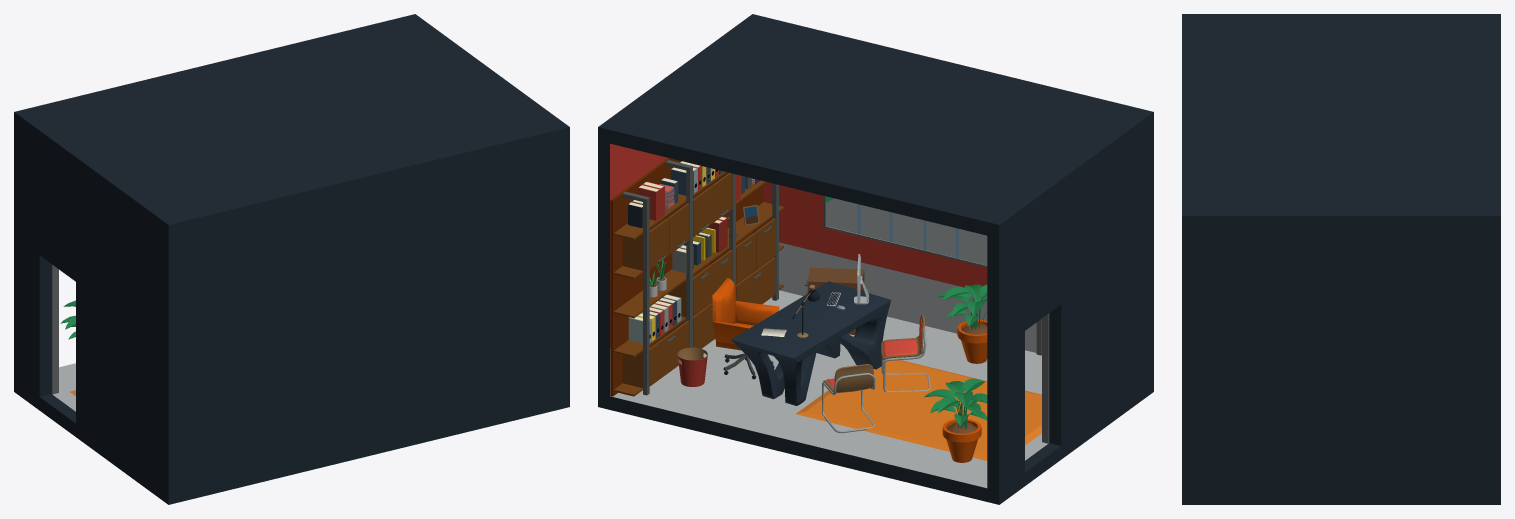
File: Room_director_002.fbx
3 renders of one model, left to right at view 1: azimuth 30°, elevation 25°; view 2: azimuth 150°, elevation 25°; view 3: azimuth 270°, elevation 25°, orthographic. The views are drawn at different scales.
Visible parts, largest first — view 1: Director_room.001; view 2: Director_room.001; view 3: Director_room.001.
Boxes of the visible parts, x1,y1,x2,y2 form: Director_room.001: (14, 14, 569, 504); Director_room.001: (598, 14, 1153, 504); Director_room.001: (1182, 14, 1500, 504).
Size of the model in its own units: 600 by 400 by 400.
